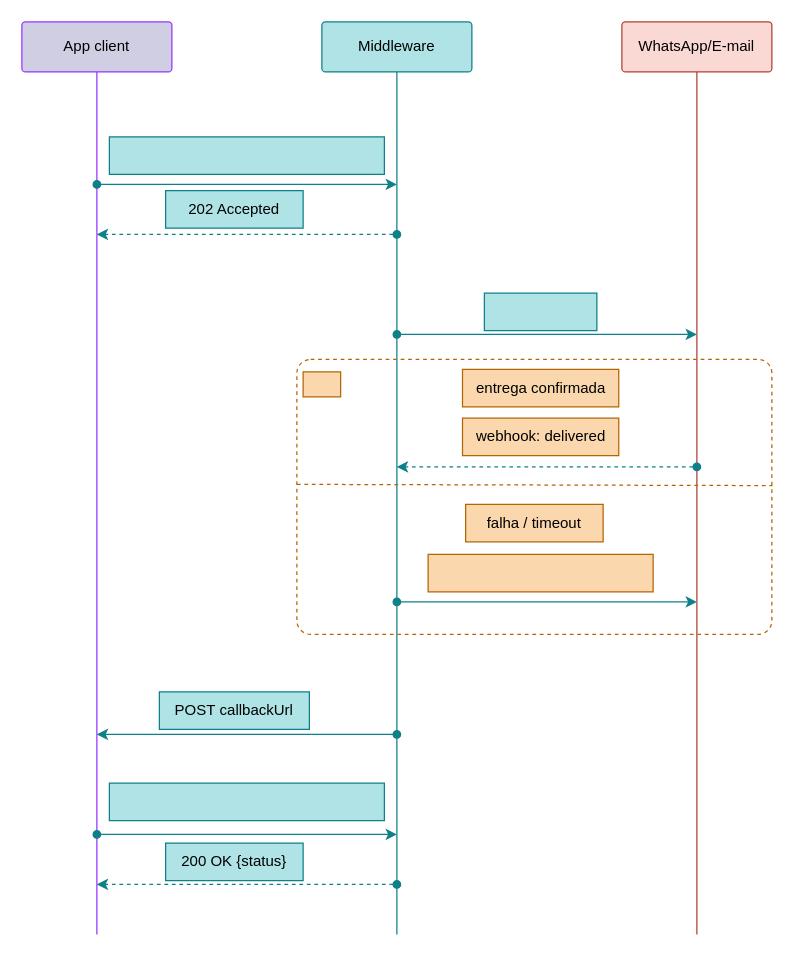
This 796x958 diagram has some shape labels left out. The shapes that lost their labels are listed below. From the top down, each one's box as (x1, y1, x2, y2) in pixels, then its label:
(108, 136, 384, 174): POST /v1/transactions?key={{key}}
(483, 292, 597, 331): POST /send
(302, 371, 341, 397): alt
(427, 553, 653, 592): POST /send (fallback)
(108, 782, 384, 821): GET /v1/transactions/{transactionId}?key={{key}}
